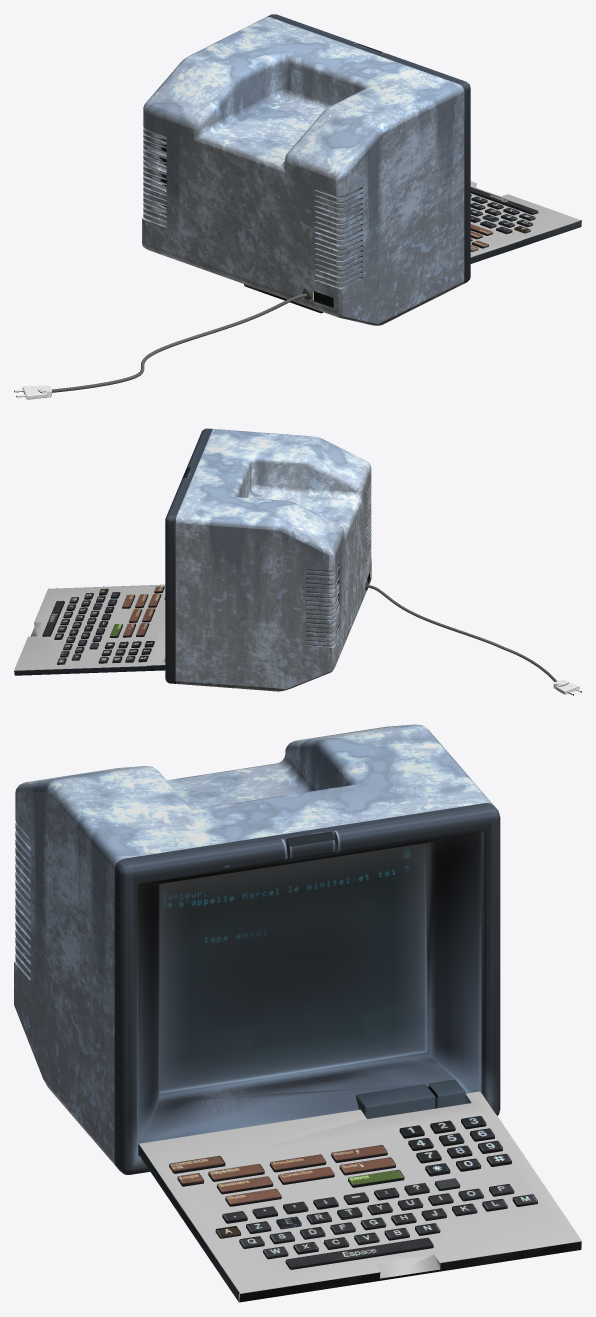
3 views of the same model, one above another, from view 1: azimuth 30°, elevation 25°; view 2: azimuth 150°, elevation 25°; view 3: azimuth 270°, elevation 25° (orthographic). The views are drawn at different scales.
Visible parts, largest first — view 1: old computer_0; view 2: old computer_0; view 3: old computer_0.
Part boxes in pixels (bbox=[...]): old computer_0: bbox=[14, 14, 581, 399]; old computer_0: bbox=[14, 428, 581, 695]; old computer_0: bbox=[14, 724, 581, 1302].
Bounding box in the file's own units: 26.83 × 8.88 × 14.13.
